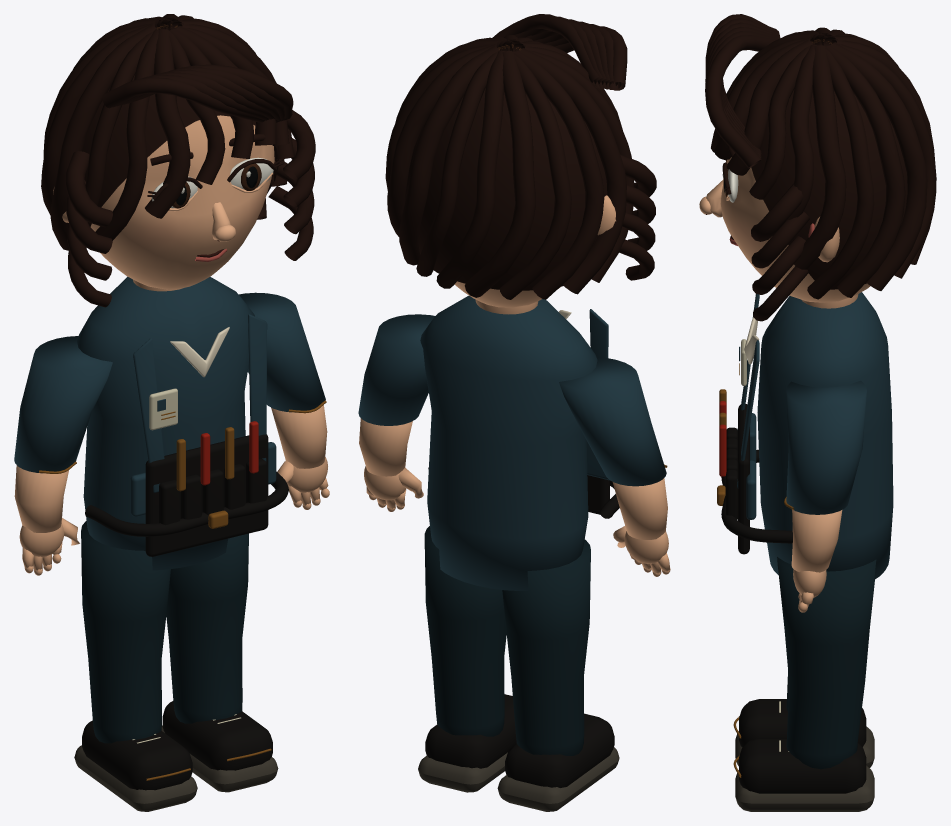
File: technician-01.glb
The picture shows the model from 3 angles, left to right: view 1: azimuth 30°, elevation 25°; view 2: azimuth 150°, elevation 25°; view 3: azimuth 270°, elevation 25°; orthographic projection.
Visible parts, largest first — view 1: Head, Body, LegL, LegR, ArmL, ArmR; view 2: Head, Body, LegL, LegR, ArmL, ArmR; view 3: Head, Body, LegR, ArmR, LegL.
Part boxes in pixels (bbox=[...]): Head: bbox=[41, 14, 315, 307]; Body: bbox=[39, 276, 326, 570]; LegL: bbox=[74, 520, 197, 811]; LegR: bbox=[161, 533, 278, 792]; ArmL: bbox=[14, 336, 112, 575]; ArmR: bbox=[239, 292, 329, 509]; Head: bbox=[385, 14, 656, 307]; Body: bbox=[420, 295, 667, 590]; LegL: bbox=[497, 539, 619, 811]; LegR: bbox=[418, 526, 516, 792]; ArmL: bbox=[559, 357, 670, 576]; ArmR: bbox=[358, 314, 434, 511]; Head: bbox=[699, 14, 936, 321]; Body: bbox=[717, 292, 893, 579]; LegR: bbox=[733, 557, 876, 811]; ArmR: bbox=[786, 380, 866, 612]; LegL: bbox=[733, 671, 874, 767].
Size of the model in its own units: 0.5725 by 1.33 by 0.385.
